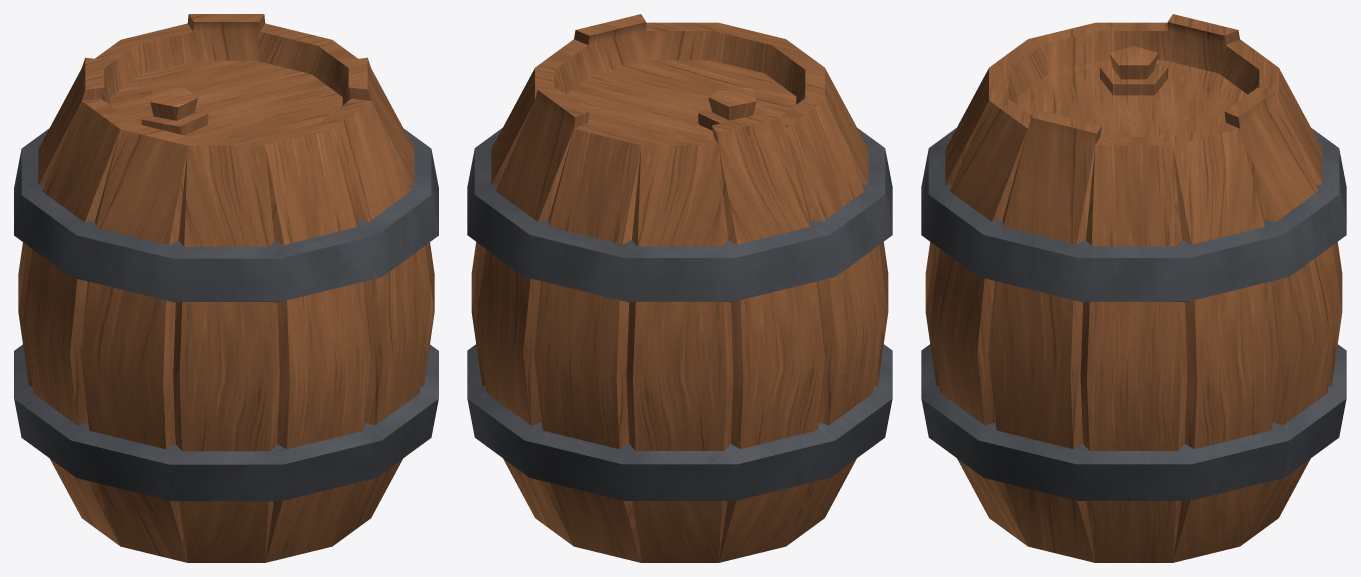
The model's file is barrel_large.gltf.
3 views of the same model, side by side, from view 1: azimuth 30°, elevation 25°; view 2: azimuth 150°, elevation 25°; view 3: azimuth 270°, elevation 25° (orthographic).
Parts seen in each view (by area): view 1: barrel_large; view 2: barrel_large; view 3: barrel_large.
Boxes of the visible parts, x1,y1,x2,y2 form: barrel_large: (14, 14, 438, 562); barrel_large: (467, 14, 892, 562); barrel_large: (921, 14, 1346, 562).
Size of the model in its own units: 1.8 by 2 by 1.8.
Materials: 5 (5 with a texture image).
